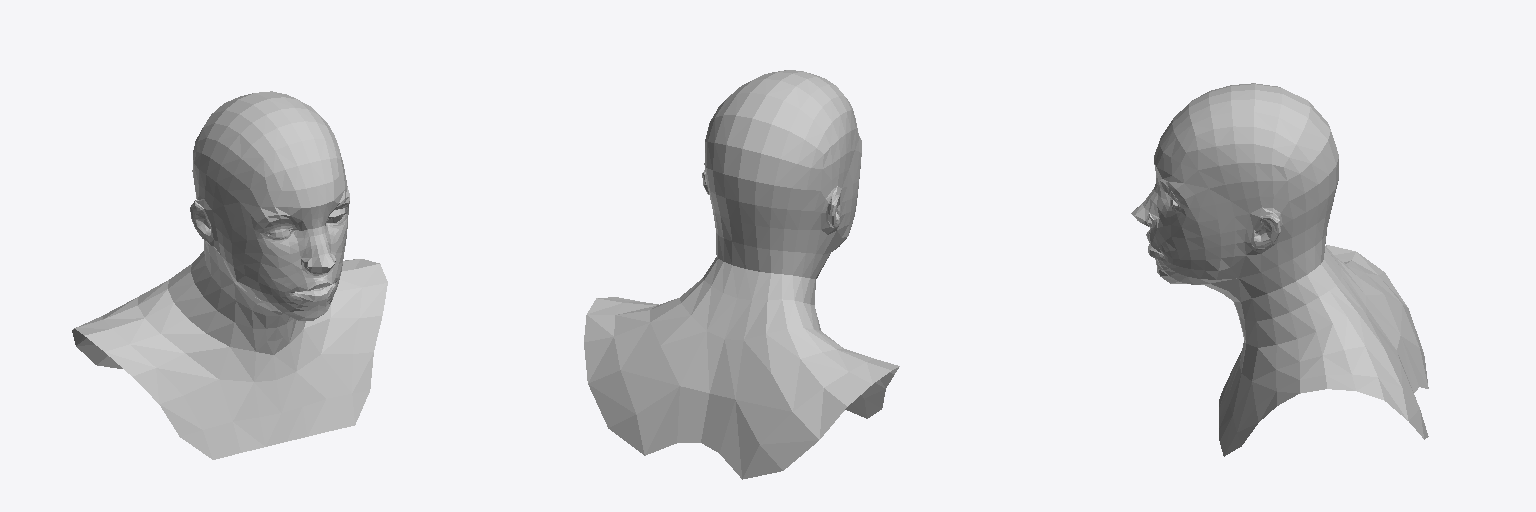
Rendered from REyeClose.obj.
3 views of the same model, side by side, from view 1: azimuth 30°, elevation 25°; view 2: azimuth 150°, elevation 25°; view 3: azimuth 270°, elevation 25° (orthographic).
Parts seen in each view (by area): view 1: ReyeClose Blendshapes; view 2: ReyeClose Blendshapes; view 3: ReyeClose Blendshapes.
Part boxes in pixels (left/top/right/bottom): ReyeClose Blendshapes: left=72, top=91, right=387, bottom=459; ReyeClose Blendshapes: left=584, top=70, right=899, bottom=479; ReyeClose Blendshapes: left=1131, top=83, right=1428, bottom=456.
Bounding box in the file's own units: 449 × 482 × 391.